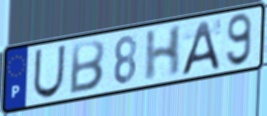8: (112, 34, 138, 86)
9: (225, 12, 254, 69)
A: (179, 18, 222, 78)
B: (67, 38, 107, 96)
H: (143, 22, 184, 84)
U: (31, 43, 68, 101)
